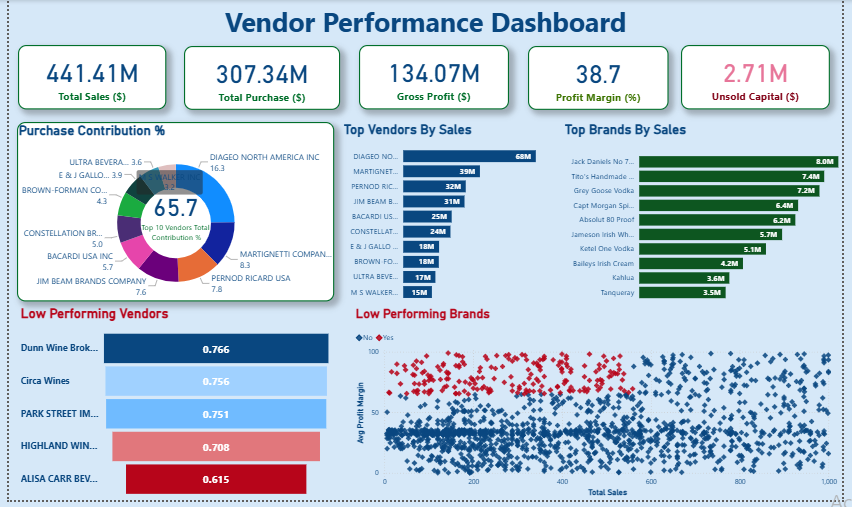

The page's visual inventory and layout, read from the dashboard file:
{"tool":"powerbi","page":{"name":"Page 1","canvas":[1500,900],"ordinal":0},"visuals":[{"type":"textbox","box":[0,0,1500,83],"z":0},{"type":"card","fields":{"Values":["Sum(vendor_sales_summary.TotalSalesDollars)"]},"box":[16.8,81,266.9,116],"z":1},{"type":"card","fields":{"Values":["Sum(vendor_sales_summary.TotalPurchaseDollars)"]},"box":[315.8,82.4,280.9,114.6],"z":2},{"type":"card","fields":{"Values":["Sum(vendor_sales_summary.GrossProfit)"]},"box":[630.2,81,269.7,116],"z":3},{"type":"card","fields":{"Values":["Avg(vendor_sales_summary.ProfitMargin)"]},"box":[934.8,82.4,252.9,114.6],"z":4},{"type":"card","fields":{"Values":["Sum(vendor_sales_summary.UnsoldCapital)"]},"box":[1210.1,81,268.3,116],"z":5},{"type":"donutChart","title":"Purchase Contribution % ","fields":{"Category":["PurchaseContribution.VendorName"],"Y":["Sum(PurchaseContribution.PurchaseContribution%)"]},"box":[14.5,219.4,571,322.6],"z":6},{"type":"card","fields":{"Values":["Sum(PurchaseContribution.PurchaseContribution%)"]},"box":[232.2,282.6,135,190.8],"z":7},{"type":"barChart","title":"Top Vendors By Sales","fields":{"Category":["vendor_sales_summary.VendorName"],"Y":["Sum(vendor_sales_summary.TotalSalesDollars)"]},"box":[597.6,219.6,397.8,333],"z":8},{"type":"barChart","title":"Top Brands By Sales","fields":{"Category":["vendor_sales_summary.Description"],"Y":["Sum(vendor_sales_summary.TotalSalesDollars)"]},"box":[995.4,219.6,504,333],"z":9},{"type":"funnel","title":"Low Performing Vendors","fields":{"Category":["LowTurnoverVendor.VendorName"],"Y":["Avg(LowTurnoverVendor.AvgStockTurnOver)"]},"box":[16.2,550.8,568.8,349.2],"z":10},{"type":"scatterChart","title":"Low Performing Brands","fields":{"Category":["BrandPerformance.Description"],"Series":["BrandPerformance.TargetBrand"],"X":["Sum(BrandPerformance.TotalSales)"],"Y":["Sum(BrandPerformance.AvgProfitMargin)"]},"box":[619.2,550.8,880.6,348.4],"z":11}]}

Visuals, with their boxes in screenshot pixels (x1, y1, x2, y2), scaled from the page's 1500x900 canvas onto the 852x507 screenshot:
textbox: pyautogui.locateOnScreen(0, 0, 851, 47)
card - Sum(vendor_sales_summary.TotalSalesDollars): pyautogui.locateOnScreen(10, 46, 161, 111)
card - Sum(vendor_sales_summary.TotalPurchaseDollars): pyautogui.locateOnScreen(179, 46, 339, 111)
card - Sum(vendor_sales_summary.GrossProfit): pyautogui.locateOnScreen(358, 46, 511, 111)
card - Avg(vendor_sales_summary.ProfitMargin): pyautogui.locateOnScreen(531, 46, 675, 111)
card - Sum(vendor_sales_summary.UnsoldCapital): pyautogui.locateOnScreen(687, 46, 840, 111)
"Purchase Contribution % " donutChart: pyautogui.locateOnScreen(8, 124, 333, 305)
card - Sum(PurchaseContribution.PurchaseContribution%): pyautogui.locateOnScreen(132, 159, 209, 267)
"Top Vendors By Sales" barChart: pyautogui.locateOnScreen(339, 124, 565, 311)
"Top Brands By Sales" barChart: pyautogui.locateOnScreen(565, 124, 851, 311)
"Low Performing Vendors" funnel: pyautogui.locateOnScreen(9, 310, 332, 506)
"Low Performing Brands" scatterChart: pyautogui.locateOnScreen(352, 310, 851, 506)
